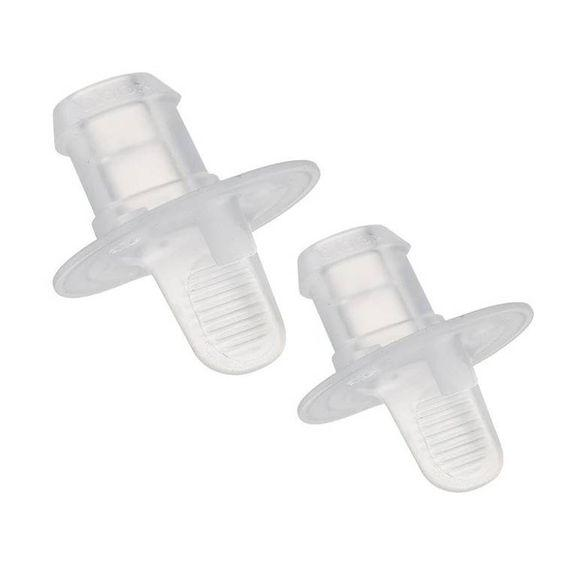PVC: (9, 11, 330, 380), (279, 197, 564, 545)
